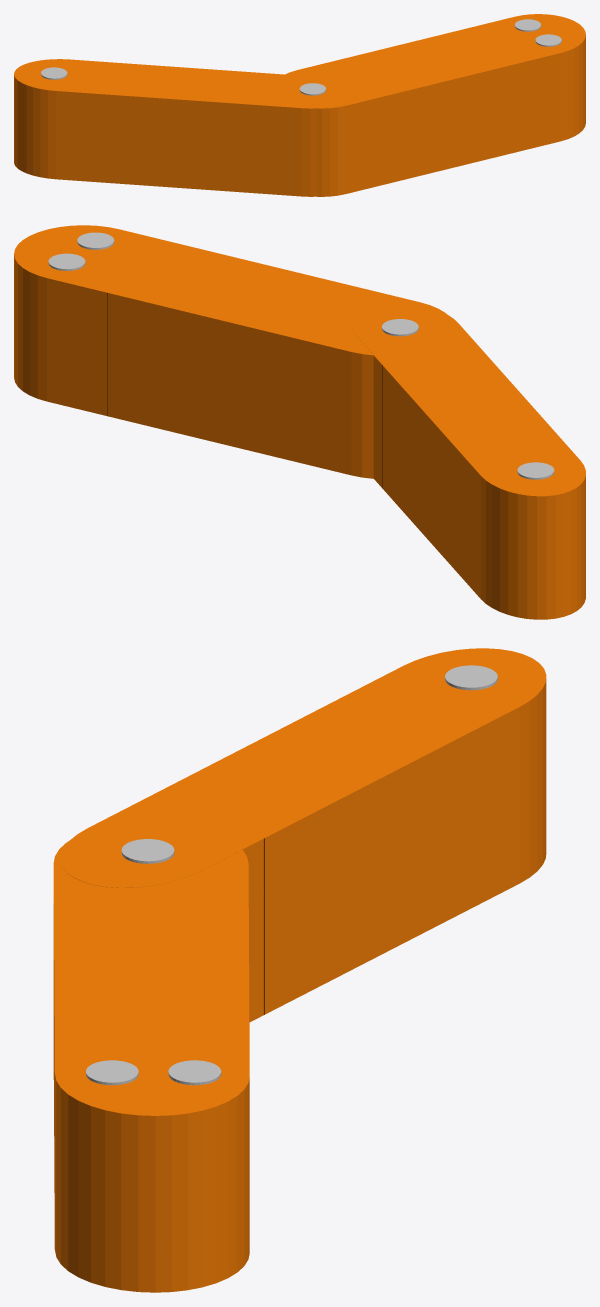
File: barra_lateral_izq.obj
3 renders of one model, top to bottom at view 1: azimuth 30°, elevation 25°; view 2: azimuth 150°, elevation 25°; view 3: azimuth 270°, elevation 25°, orthographic. The views are drawn at different scales.
Visible parts, largest first — view 1: Barra_Cubo.002, Tornillo.002_Cilindro.020, Tornillo.001_Cilindro.019, Tornillo_Cilindro.018; view 2: Barra_Cubo.002, Tornillo.002_Cilindro.020, Tornillo.001_Cilindro.019, Tornillo_Cilindro.018; view 3: Barra_Cubo.002, Tornillo.002_Cilindro.020, Tornillo_Cilindro.018, Tornillo.001_Cilindro.019.
Boxes of the visible parts, left/top/right/bottom form: Barra_Cubo.002: left=14, top=14, right=585, bottom=196; Tornillo.002_Cilindro.020: left=41, top=67, right=325, bottom=95; Tornillo.001_Cilindro.019: left=535, top=34, right=561, bottom=46; Tornillo_Cilindro.018: left=514, top=19, right=541, bottom=31; Barra_Cubo.002: left=14, top=225, right=585, bottom=619; Tornillo.002_Cilindro.020: left=382, top=319, right=554, bottom=479; Tornillo.001_Cilindro.019: left=77, top=232, right=114, bottom=249; Tornillo_Cilindro.018: left=48, top=253, right=85, bottom=270; Barra_Cubo.002: left=53, top=648, right=546, bottom=1292; Tornillo.002_Cilindro.020: left=121, top=665, right=497, bottom=863; Tornillo_Cilindro.018: left=168, top=1060, right=221, bottom=1085; Tornillo.001_Cilindro.019: left=86, top=1060, right=138, bottom=1085.
Bounding box in the file's own units: 11.35 × 2.05 × 5.06.
